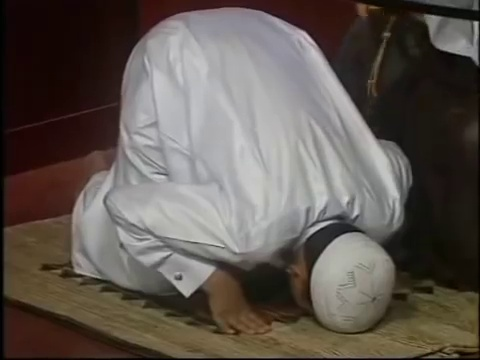sujud: (64, 7, 416, 336)
